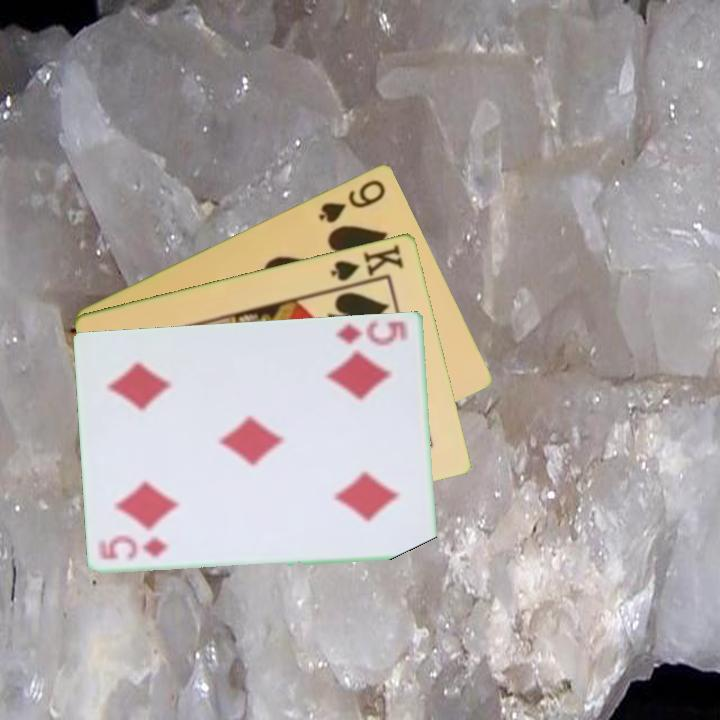5d: (333, 316, 413, 348), (95, 536, 171, 564)
9s: (315, 175, 389, 226)
Ks: (327, 240, 407, 284)
